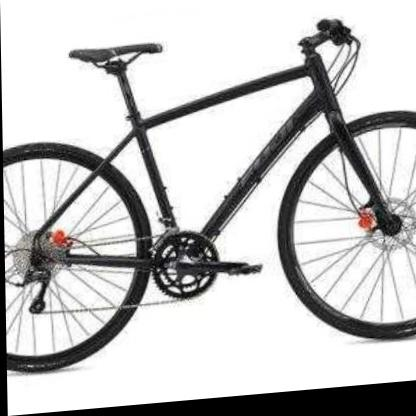Bicycle: (11, 21, 414, 365)
